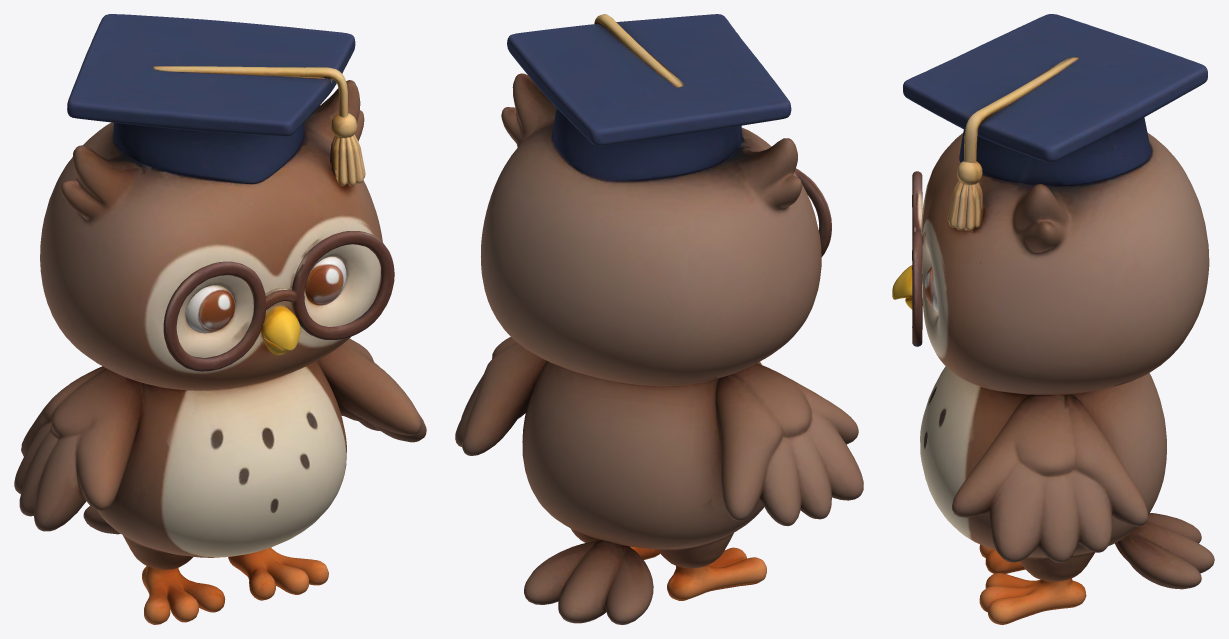
Rendered from npc_owl.glb.
The picture shows the model from 3 angles, left to right: view 1: azimuth 30°, elevation 25°; view 2: azimuth 150°, elevation 25°; view 3: azimuth 270°, elevation 25°; orthographic projection. The views are drawn at different scales.
Parts seen in each view (by area): view 1: node_0; view 2: node_0; view 3: node_0.
Boxes of the visible parts, x1=… form: node_0: x1=14, y1=14, x2=426, y2=624; node_0: x1=455, y1=14, x2=863, y2=624; node_0: x1=892, y1=14, x2=1214, y2=624.
Size of the model in its own units: 0.8269 by 1.07 by 0.6105.
1 material, 1 textured.
